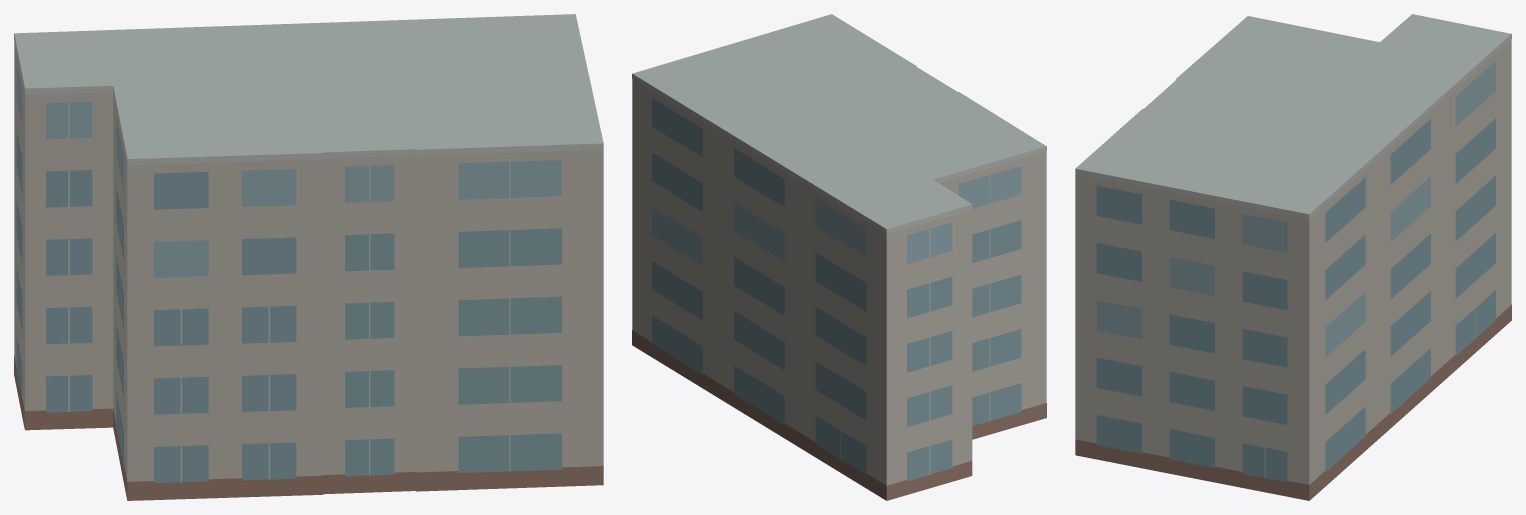
File: survey-upis-32633824.glb
The picture shows the model from 3 angles, left to right: view 1: azimuth 30°, elevation 25°; view 2: azimuth 150°, elevation 25°; view 3: azimuth 270°, elevation 25°; orthographic projection. The views are drawn at different scales.
Parts seen in each view (by area): view 1: survey-upis-32633824.tmp; view 2: survey-upis-32633824.tmp; view 3: survey-upis-32633824.tmp.
Boxes of the visible parts, x1=… form: survey-upis-32633824.tmp: x1=14, y1=14, x2=603, y2=500; survey-upis-32633824.tmp: x1=632, y1=14, x2=1046, y2=500; survey-upis-32633824.tmp: x1=1075, y1=14, x2=1511, y2=500.
Bounding box in the file's own units: 19.79 × 13.2 × 18.23.
